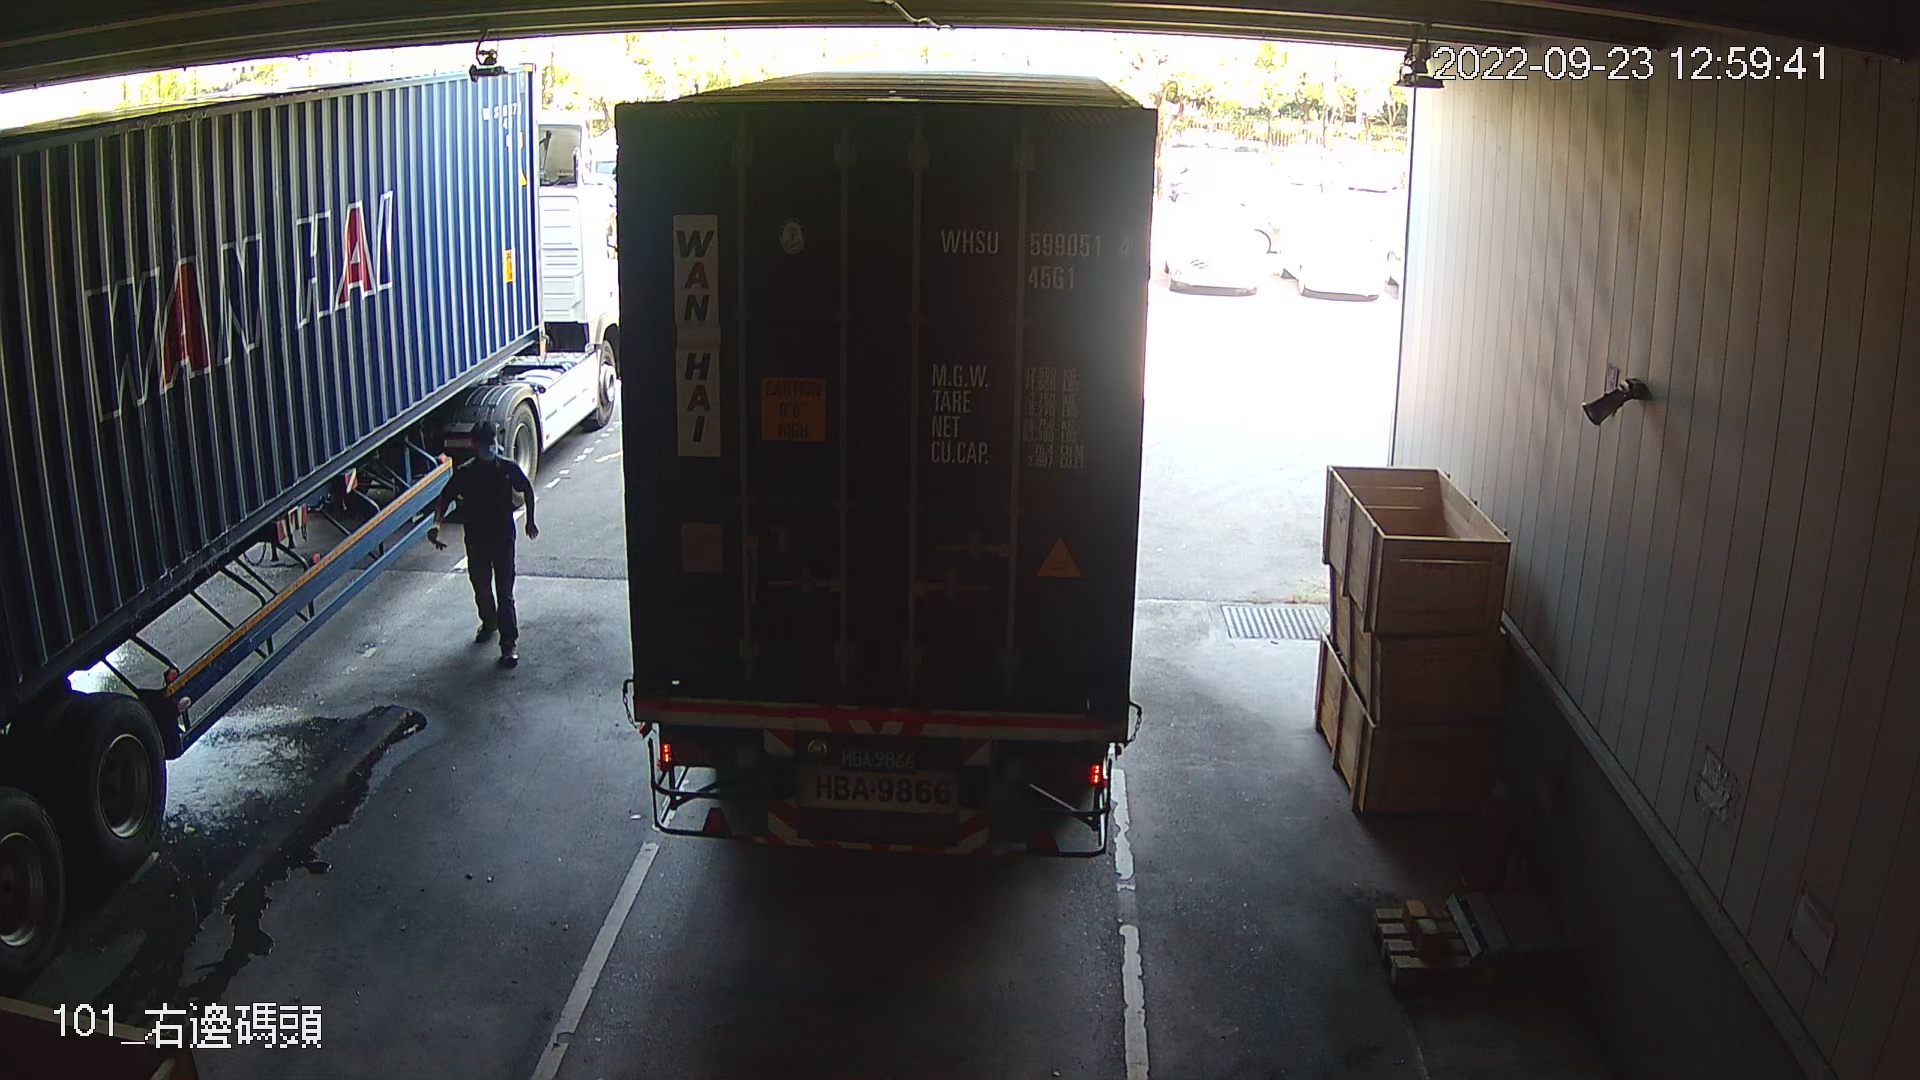container: (923, 212, 1141, 298)
